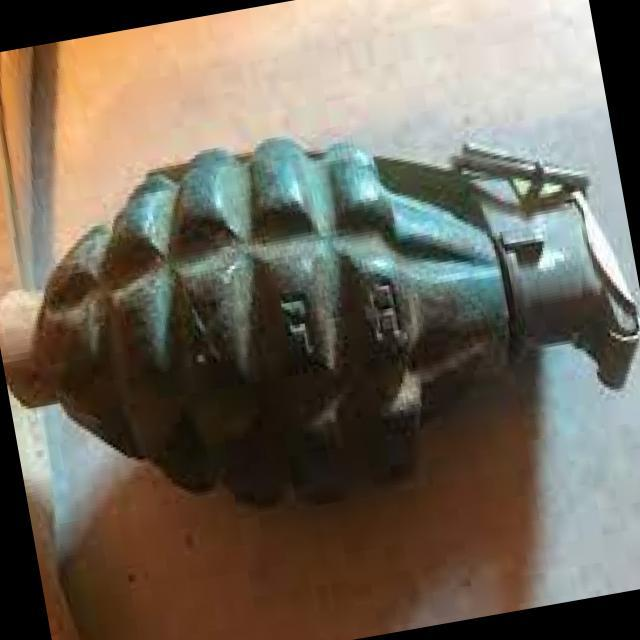grenade: (0, 74, 640, 555)
